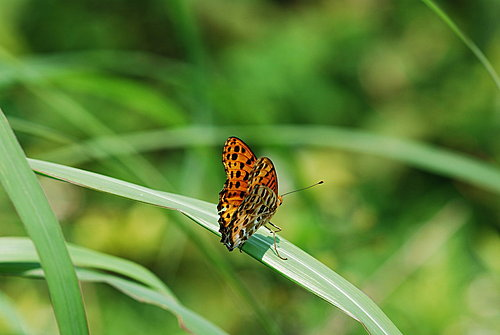Argyreus hyperbius: (212, 135, 328, 257)
butterfly: (214, 137, 330, 259)
